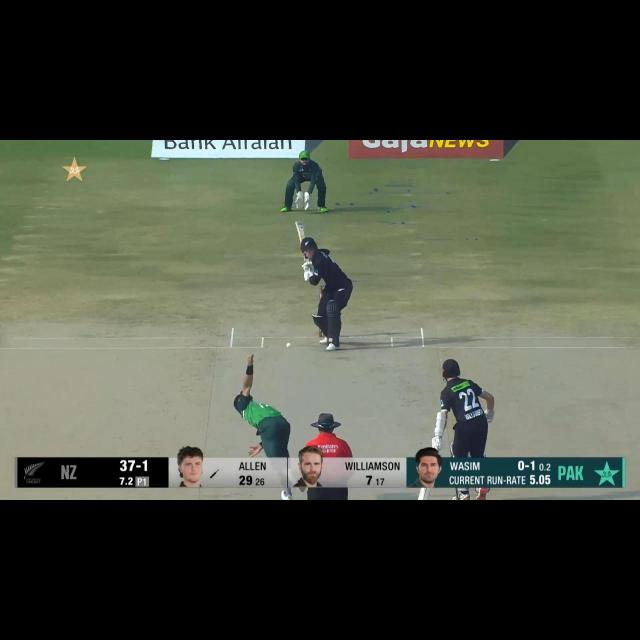bat: (295, 221, 308, 243), (418, 486, 429, 502)
toe: (296, 220, 303, 226)
